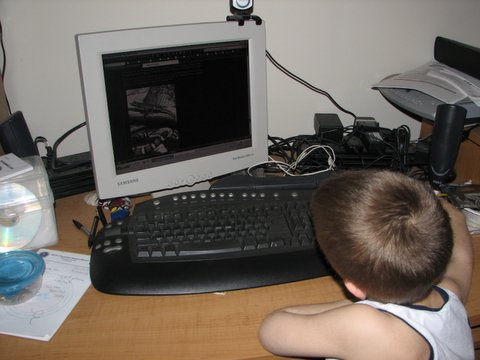person: (261, 170, 476, 360)
